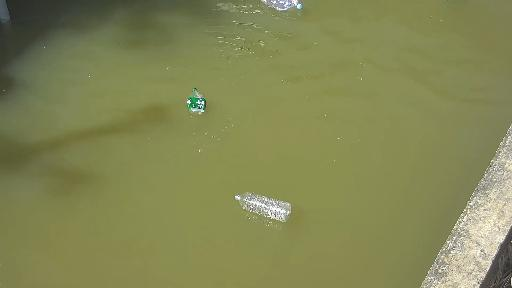plastic: (217, 180, 295, 226), (181, 78, 219, 128), (250, 0, 307, 11)
